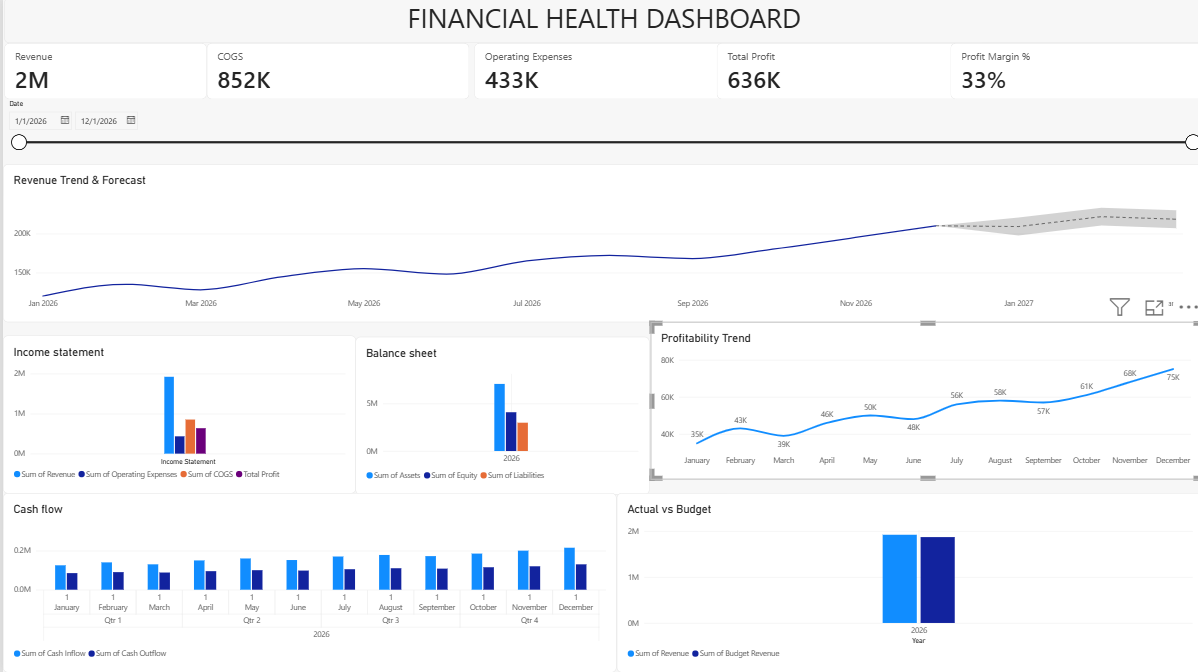

This screenshot's page, from the dashboard's own definition file:
{"tool":"powerbi","page":{"name":"Page 1","canvas":[1920,1080],"ordinal":0},"visuals":[{"type":"cardVisual","fields":{"Data":["Sum(Sheet1.Revenue)"]},"box":[2.1,71.9,324.5,90.4],"z":0},{"type":"cardVisual","fields":{"Data":["Sum(Sheet1.COGS)","Sum(Sheet1.Operating Expenses)"]},"box":[326.6,71.9,848.3,90.4],"z":1000},{"type":"cardVisual","fields":{"Data":["Sheet1.Total Profit"]},"box":[1142,71.9,390.2,90.4],"z":2000},{"type":"cardVisual","fields":{"Data":["Sheet1.Profit Margin %"]},"box":[1515.8,71.9,404.6,90.4],"z":3000},{"type":"lineChart","title":"Revenue Trend & Forecast","fields":{"Category":["Sheet1.Date.Variation.Date Hierarchy.Year","Sheet1.Date.Variation.Date Hierarchy.Quarter","Sheet1.Date.Variation.Date Hierarchy.Month","Sheet1.Date.Variation.Date Hierarchy.Day"],"Y":["Sum(Sheet1.Revenue)"]},"box":[0,266.7,1920.4,252.6],"z":4000},{"type":"clusteredColumnChart","title":"Income statement ","fields":{"Y":["Sum(Sheet1.Revenue)","Sum(Sheet1.Operating Expenses)","Sum(Sheet1.COGS)","Sheet1.Total Profit"]},"box":[0,540.2,564.8,252.6],"z":5000},{"type":"clusteredColumnChart","title":"Balance sheet","fields":{"Category":["Sheet1.Date.Variation.Date Hierarchy.Year","Sheet1.Date.Variation.Date Hierarchy.Quarter","Sheet1.Date.Variation.Date Hierarchy.Month","Sheet1.Date.Variation.Date Hierarchy.Day"],"Y":["Sum(Sheet1.Assets)","Sum(Sheet1.Equity)","Sum(Sheet1.Liabilities)"]},"box":[564.8,542.2,470.3,252.6],"z":6000},{"type":"clusteredColumnChart","title":"Cash flow","fields":{"Category":["Sheet1.Date.Variation.Date Hierarchy.Year","Sheet1.Date.Variation.Date Hierarchy.Quarter","Sheet1.Date.Variation.Date Hierarchy.Month","Sheet1.Date.Variation.Date Hierarchy.Day"],"Y":["Sum(Sheet1.Cash Inflow)","Sum(Sheet1.Cash Outflow)"]},"box":[0,792.8,981.8,287.5],"z":7000},{"type":"clusteredColumnChart","title":"Actual vs Budget","fields":{"Category":["Sheet1.Date.Variation.Date Hierarchy.Year","Sheet1.Date.Variation.Date Hierarchy.Quarter","Sheet1.Date.Variation.Date Hierarchy.Month","Sheet1.Date.Variation.Date Hierarchy.Day"],"Y":["Sum(Sheet1.Revenue)","Sum(Sheet1.Budget Revenue)"]},"box":[981.8,792.8,938.6,287.5],"z":8000},{"type":"textbox","box":[2.1,0,1918.4,71.9],"z":9000},{"type":"slicer","fields":{"Values":["Sheet1.Date"]},"box":[2.1,162.3,1918.4,125.3],"z":10000},{"type":"lineChart","title":"Profitability Trend","fields":{"Category":["Sheet1.Date.Variation.Date Hierarchy.Month"],"Y":["Sheet1.Total Profit"]},"box":[1036,518,885,251],"z":10001}]}

Visuals, with their boxes in screenshot pixels (x1, y1, x2, y2), scaled from the page's 1920x1080 canvas onto the 1198x672 screenshot:
cardVisual - Sum(Sheet1.Revenue): l=1, t=45, r=204, b=101
cardVisual - Sum(Sheet1.COGS) x Sum(Sheet1.Operating Expenses): l=204, t=45, r=733, b=101
cardVisual - Sheet1.Total Profit: l=713, t=45, r=956, b=101
cardVisual - Sheet1.Profit Margin %: l=946, t=45, r=1197, b=101
"Revenue Trend & Forecast" lineChart: l=0, t=166, r=1197, b=323
"Income statement " clusteredColumnChart: l=0, t=336, r=352, b=493
"Balance sheet" clusteredColumnChart: l=352, t=337, r=646, b=495
"Cash flow" clusteredColumnChart: l=0, t=493, r=613, b=671
"Actual vs Budget" clusteredColumnChart: l=613, t=493, r=1197, b=671
textbox: l=1, t=0, r=1197, b=45
slicer - Sheet1.Date: l=1, t=101, r=1197, b=179
"Profitability Trend" lineChart: l=646, t=322, r=1197, b=478
